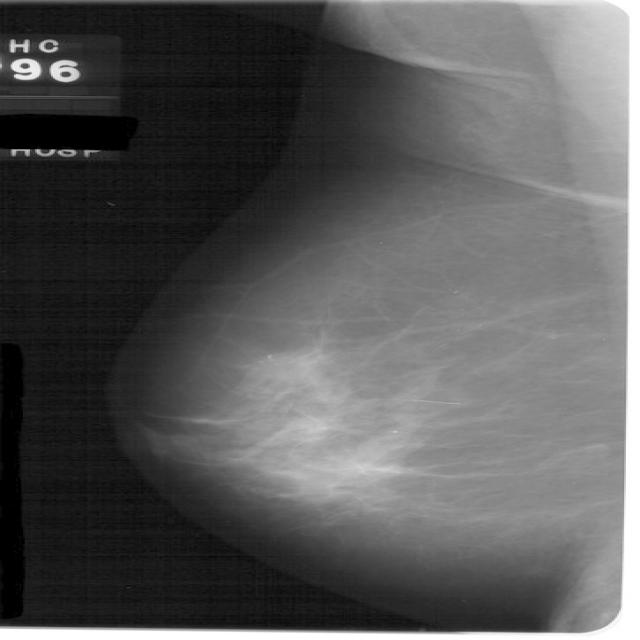tumour: (242, 352, 310, 377)
